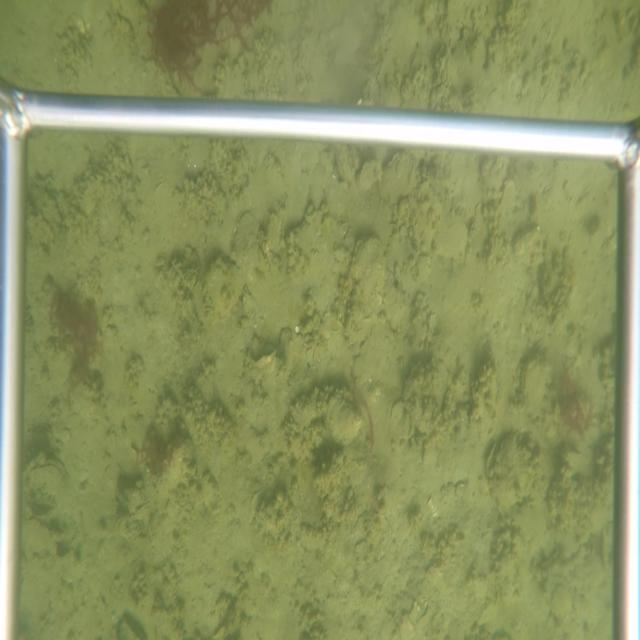Oyster-Indeterminate: (343, 234, 386, 347), (378, 149, 424, 206), (201, 257, 247, 314), (518, 355, 553, 421), (324, 395, 364, 448)
